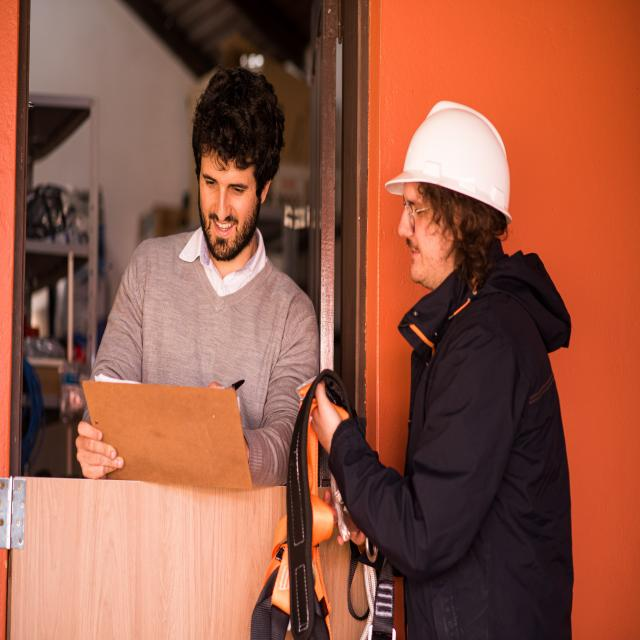capacete: (382, 97, 516, 229)
